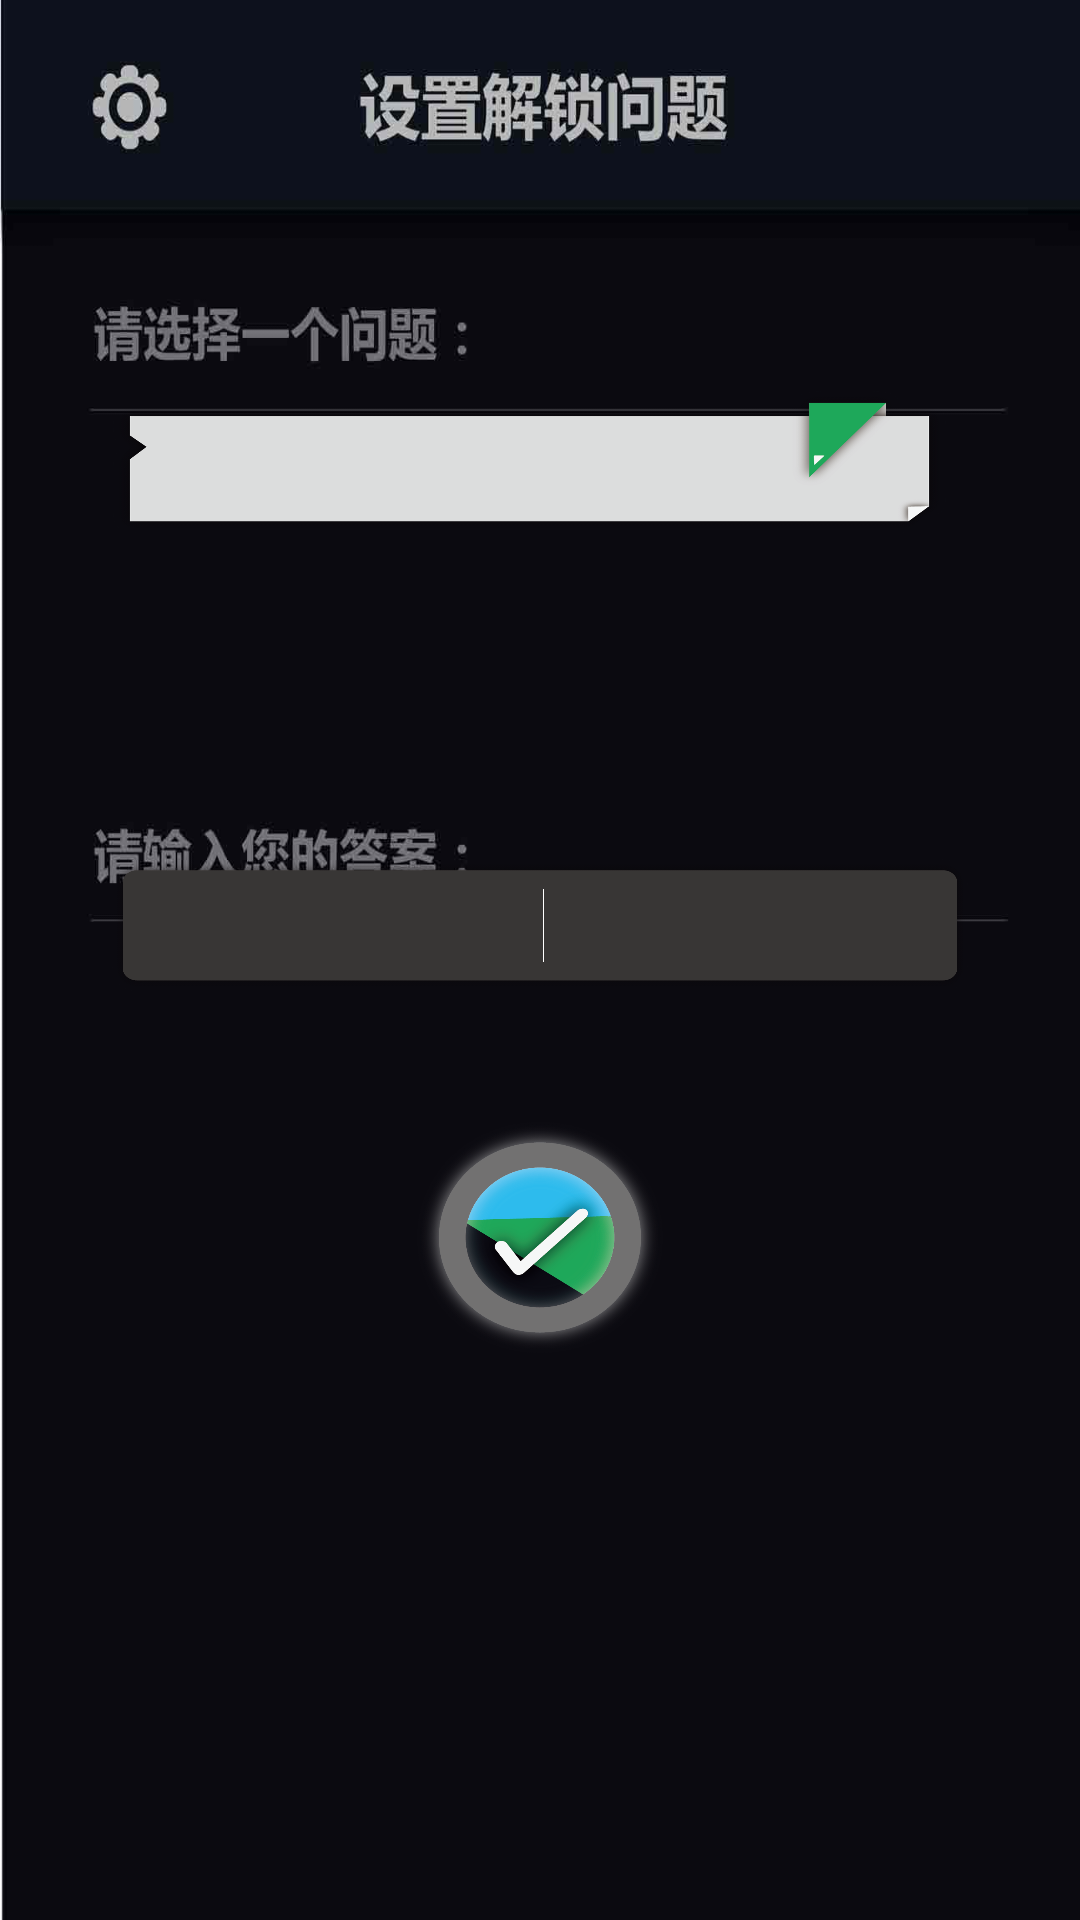

Icon click points for this 1080×1920 phone screenshot, format (x=x, y=y):
check: (x=540, y=1237)
